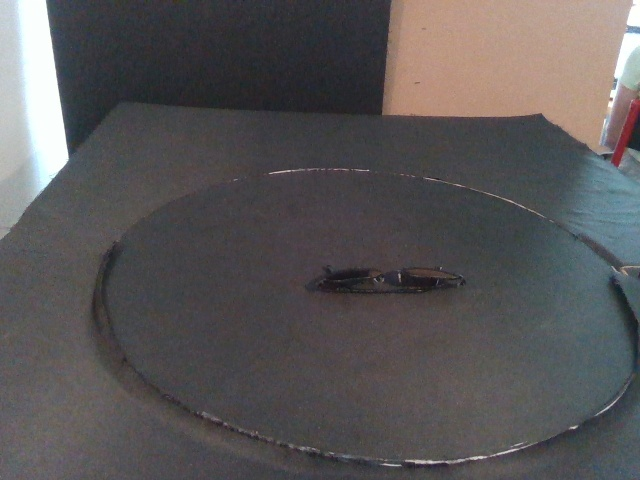glasses: (315, 263, 466, 294)
